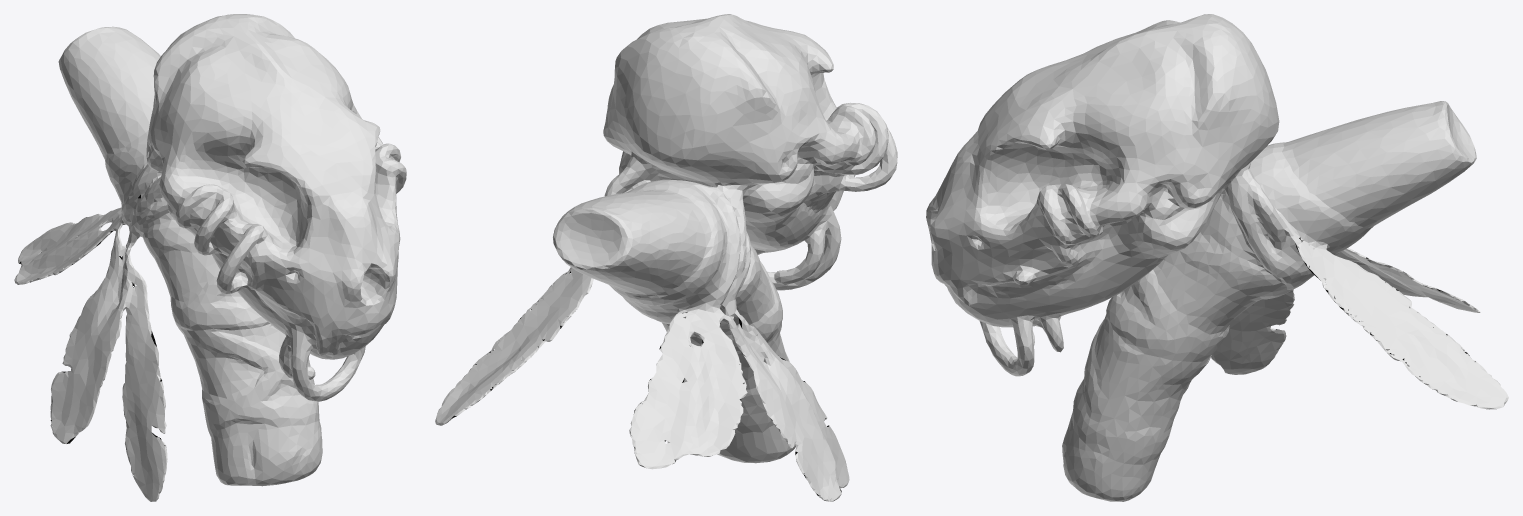
The model's file is nec_bone_staff01.glb.
3 renders of one model, left to right at view 1: azimuth 30°, elevation 25°; view 2: azimuth 150°, elevation 25°; view 3: azimuth 270°, elevation 25°, orthographic. The views are drawn at different scales.
Parts seen in each view (by area): view 1: Low; view 2: Low; view 3: Low.
Boxes of the visible parts, box(x1,y1,x2,y2) form: Low: box(14, 14, 406, 501); Low: box(435, 14, 897, 501); Low: box(926, 14, 1508, 501).
Bounding box in the file's own units: 1.16 × 1.75 × 1.99.
Materials: 1 (1 with a texture image).
